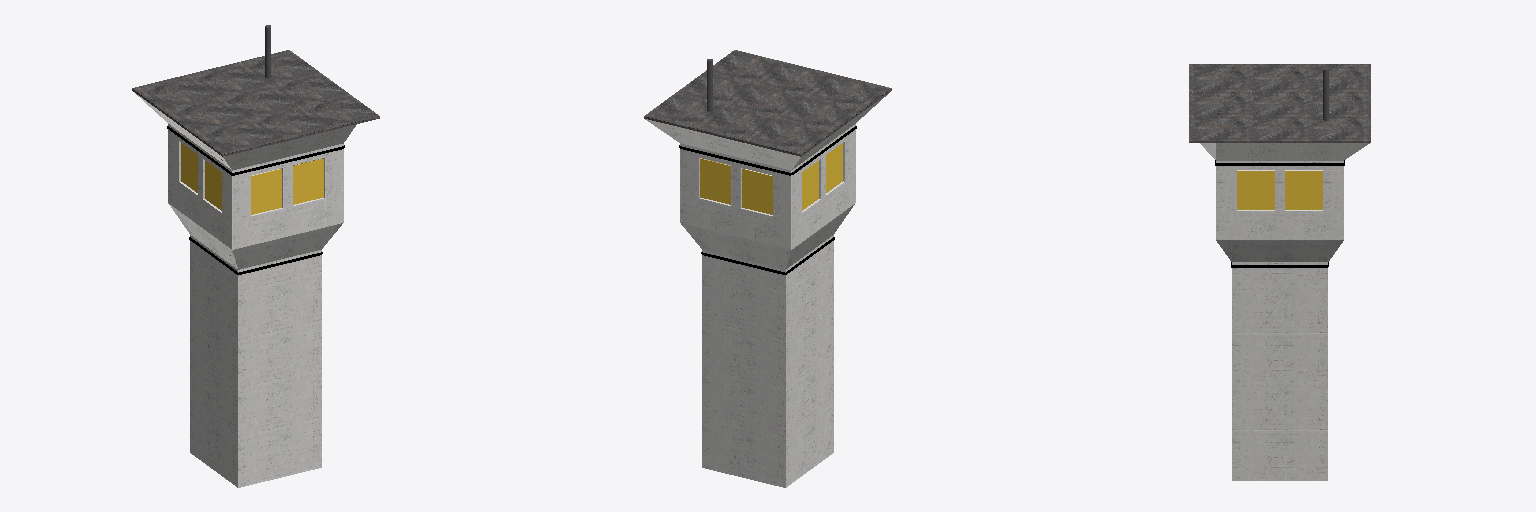
3 renders of one model, left to right at view 1: azimuth 30°, elevation 25°; view 2: azimuth 150°, elevation 25°; view 3: azimuth 270°, elevation 25°, orthographic.
Parts seen in each view (by area): view 1: Part14, Part59, Part12, Part56, Wedge18, Wedge24, Part54, Door2, Door5, Part9, Part85, Part75 (+3 smaller); view 2: Part13, Part59, Part12, Part55, Wedge30, Wedge36, Part54, Door4, Door8, Part34, Part113, Part74 (+3 smaller); view 3: Part15, Part59, Part57, Wedge6, Wedge12, Door1, Door3, Part10, Part36, Part76.
Part boxes in pixels (bbox=[...]): Part14: bbox=[238, 250, 321, 487]; Part59: bbox=[132, 50, 379, 154]; Part12: bbox=[190, 235, 237, 487]; Part56: bbox=[233, 200, 343, 249]; Wedge18: bbox=[233, 124, 356, 169]; Wedge24: bbox=[239, 226, 329, 269]; Part54: bbox=[168, 180, 231, 248]; Door2: bbox=[293, 159, 323, 204]; Door5: bbox=[251, 169, 281, 214]; Part9: bbox=[325, 153, 343, 203]; Part85: bbox=[233, 176, 250, 226]; Part75: bbox=[233, 144, 343, 179]; Part13: bbox=[702, 250, 785, 487]; Part59: bbox=[644, 50, 891, 154]; Part12: bbox=[786, 235, 833, 487]; Part55: bbox=[680, 200, 790, 249]; Wedge30: bbox=[667, 124, 790, 169]; Wedge36: bbox=[694, 226, 784, 269]; Part54: bbox=[792, 180, 855, 248]; Door4: bbox=[700, 158, 730, 204]; Door8: bbox=[742, 169, 772, 214]; Part34: bbox=[680, 153, 698, 203]; Part113: bbox=[773, 176, 790, 226]; Part74: bbox=[680, 143, 790, 179]; Part15: bbox=[1232, 262, 1327, 480]; Part59: bbox=[1189, 64, 1370, 140]; Part57: bbox=[1216, 217, 1343, 239]; Wedge6: bbox=[1216, 143, 1343, 160]; Wedge12: bbox=[1232, 240, 1327, 261]; Door1: bbox=[1285, 171, 1322, 209]; Door3: bbox=[1237, 171, 1274, 209]; Part10: bbox=[1216, 170, 1236, 216]; Part36: bbox=[1323, 170, 1343, 216]; Part76: bbox=[1216, 161, 1343, 169].
Bounding box in the file's own units: 34.04 × 84.26 × 34.04.
8 materials, 2 textured.